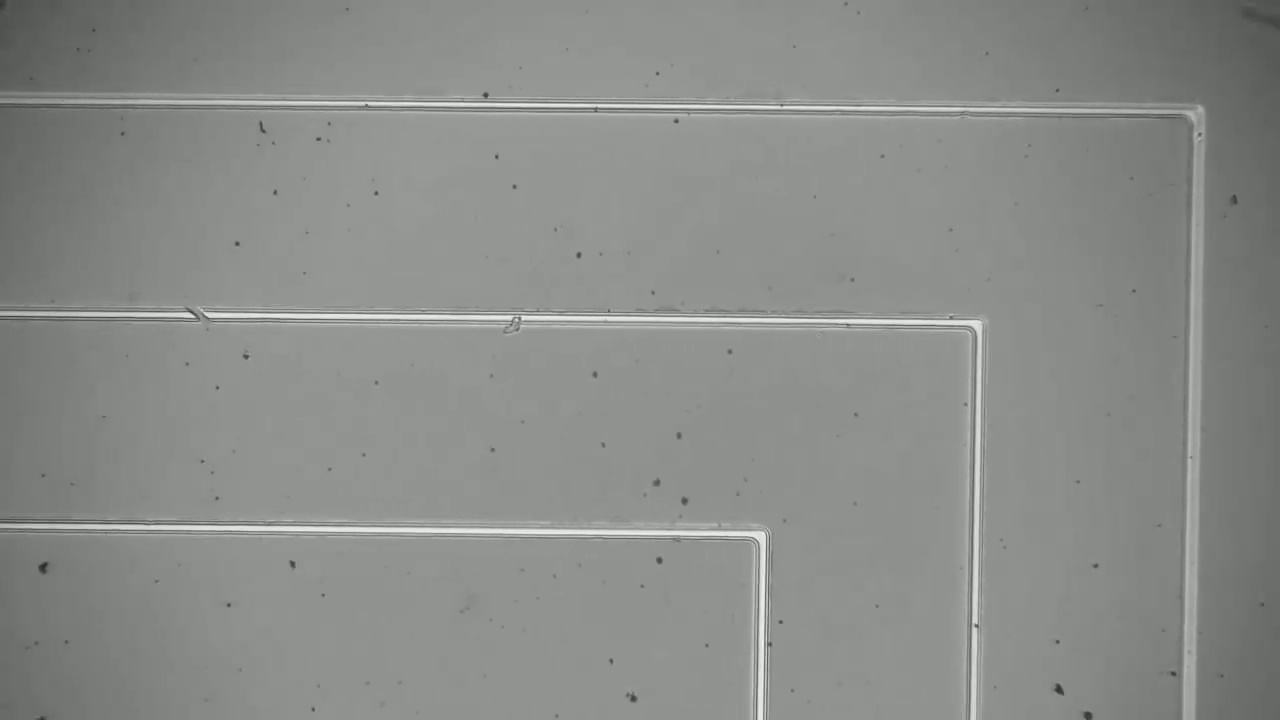open: (176, 292, 219, 334)
stains_enbedded: (491, 301, 536, 343)
